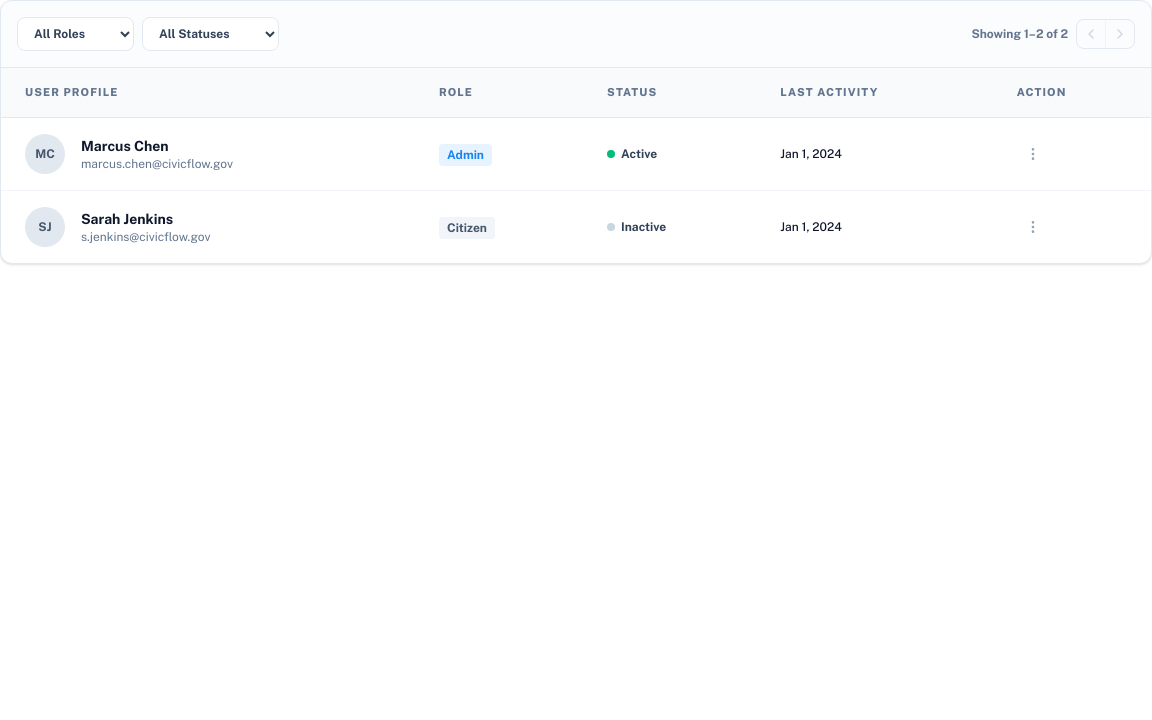
Test: UsersTable row actions › opens dialog with reason field when Activate is clicked for an inactive user
// Sarah Jenkins (index 1) is inactive, so "Activate" should appear
Click the button named "User actions" in the row of "Sarah". click: [1033, 226]
box: [1017, 210, 1049, 242]
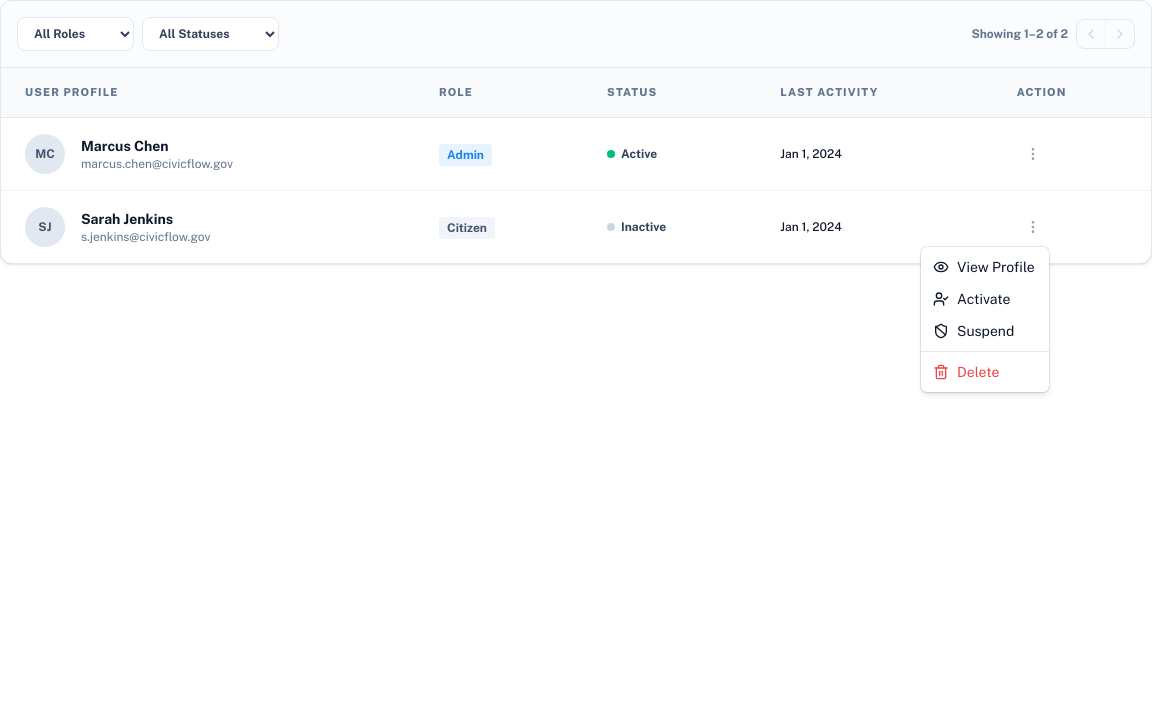
Expected: the menu item "Activate" is shown
Click the menu item "Activate". click: [972, 299]
box: [933, 291, 1010, 307]
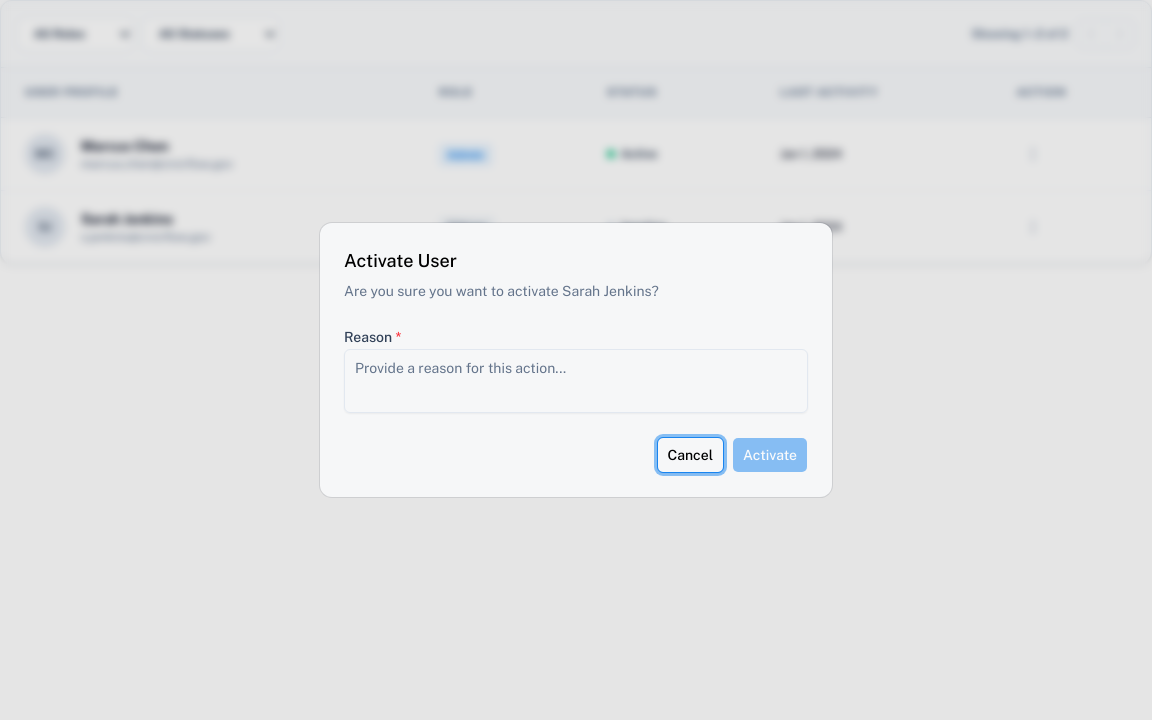
Expected: the heading "Activate User" is shown, [344, 247, 457, 275]
Expected: the text box with placeholder "Provide a reason for this action..." is shown, [344, 349, 808, 413]
